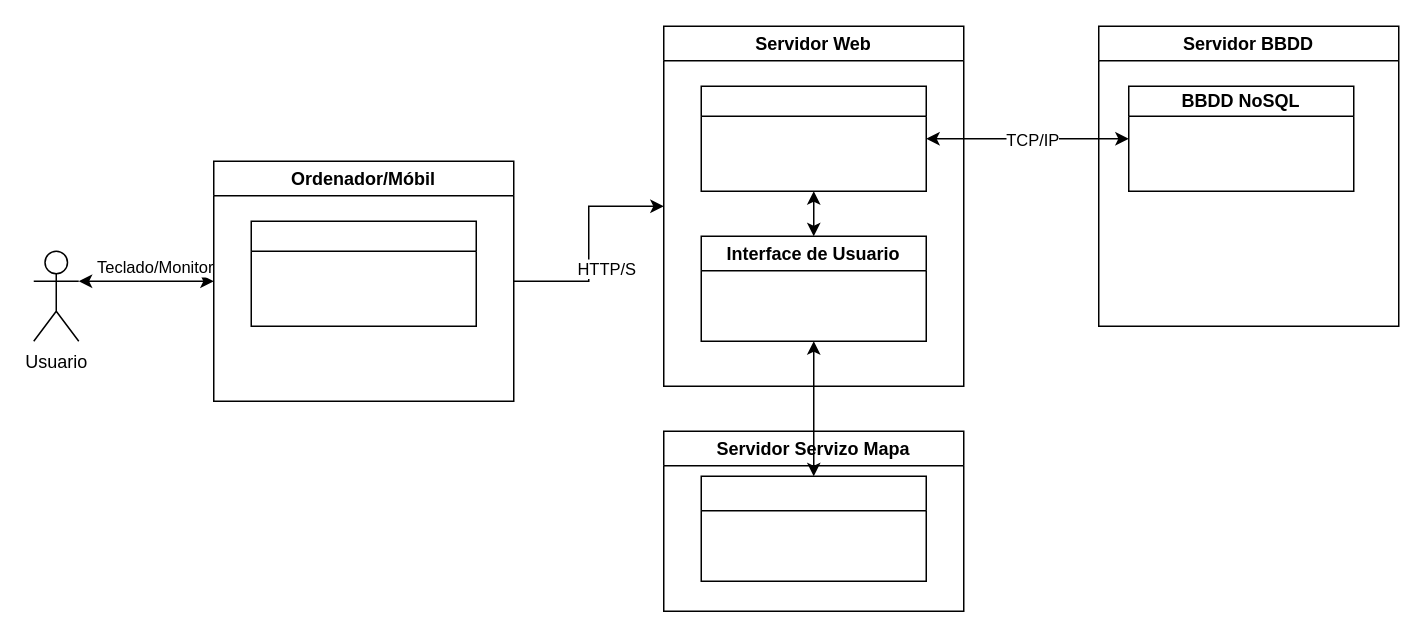
Image size: 1425x638. Some labels were removed from this diagram. Here are the shapes that lost their labels. From the top down, the centre of each, then its label:
(x=813, y=138): API Rest
(x=363, y=273): Navegador Web
(x=813, y=528): Map API
